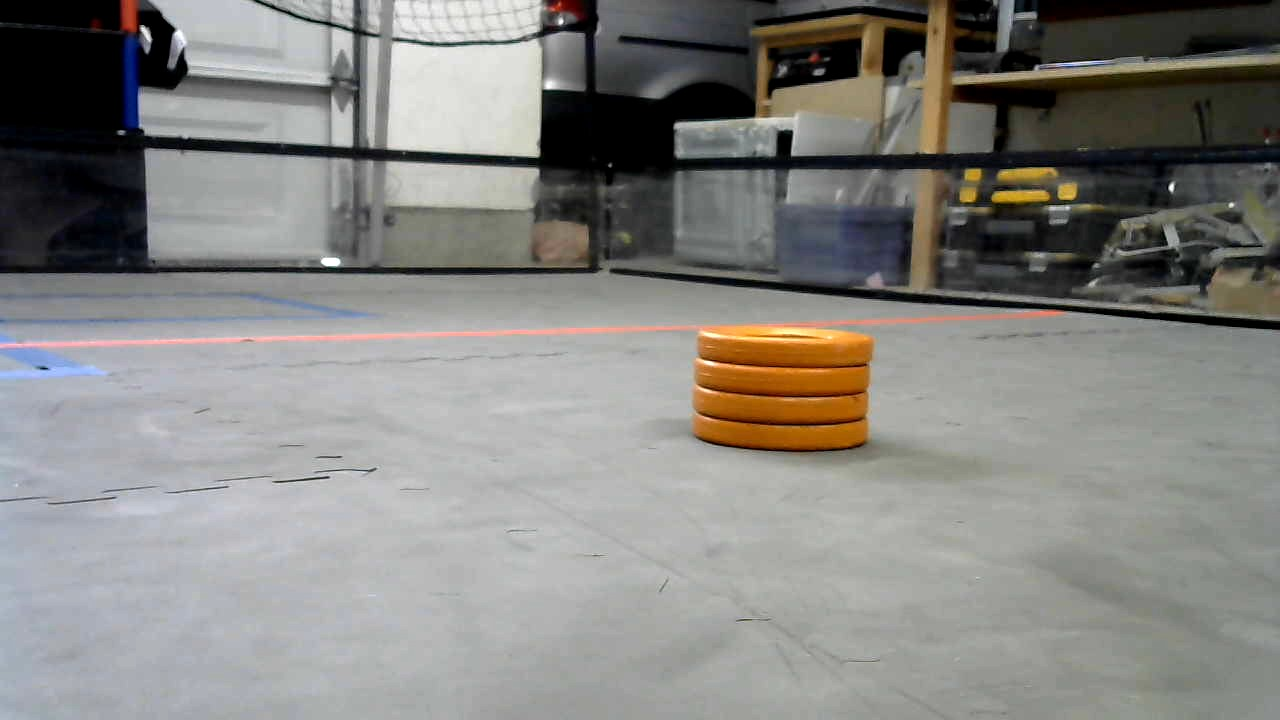FourStack: (688, 327, 874, 450)
